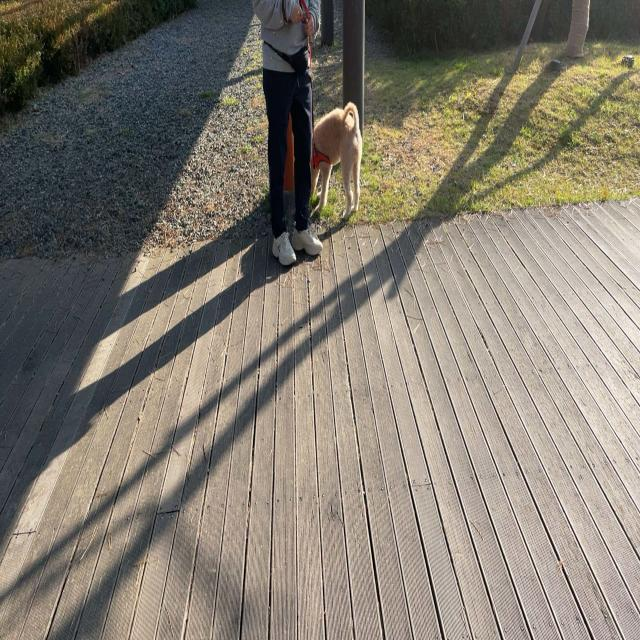Leashed_Dog: (302, 67, 364, 220)
